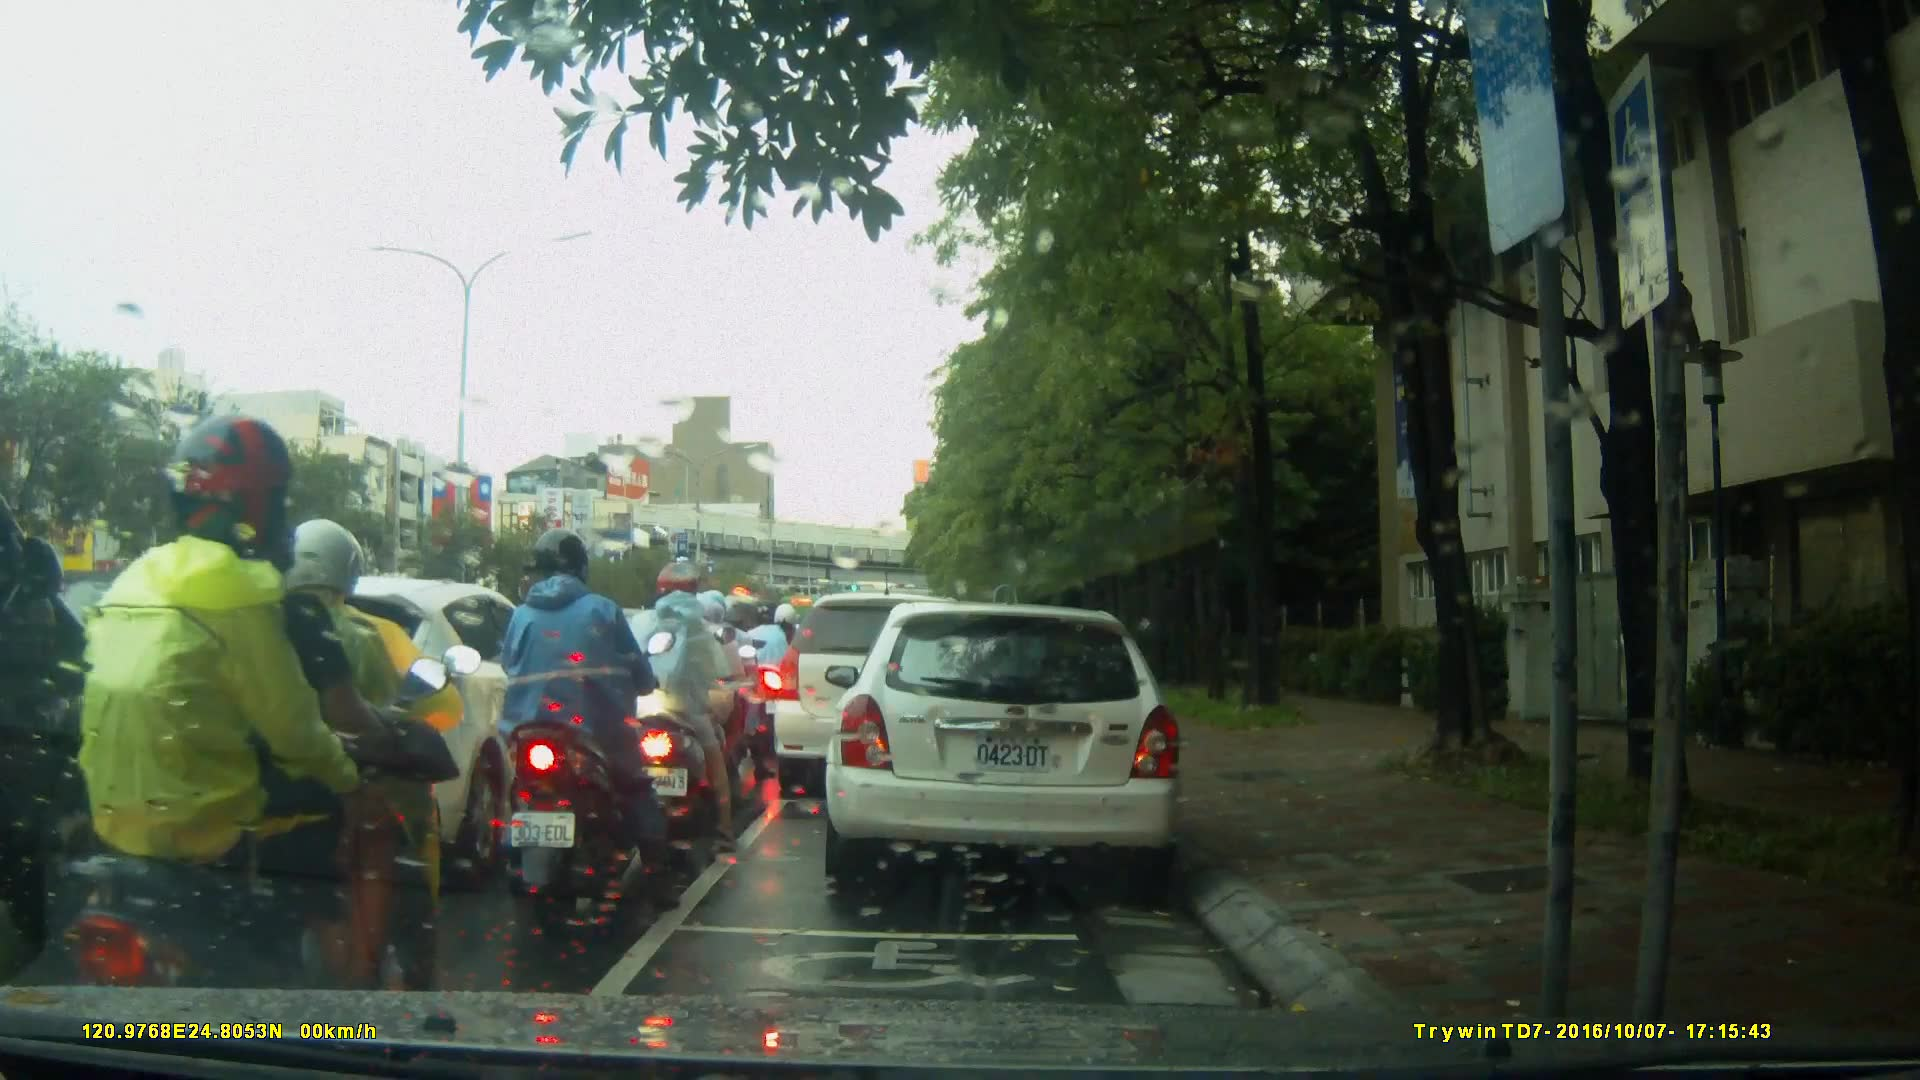rider: (66, 425, 459, 1046), (234, 523, 478, 1006), (499, 529, 682, 910), (614, 560, 737, 842), (658, 586, 761, 821), (739, 599, 797, 749)
vehicle: (191, 576, 605, 859), (822, 604, 1188, 883), (774, 595, 995, 802)
